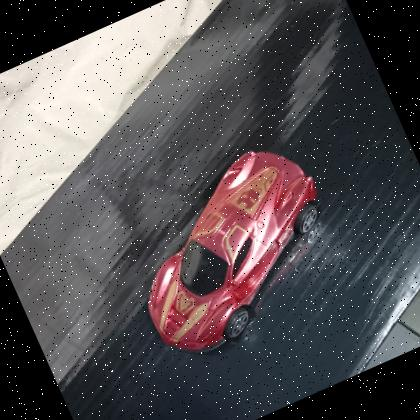Car: (99, 125, 366, 374)
